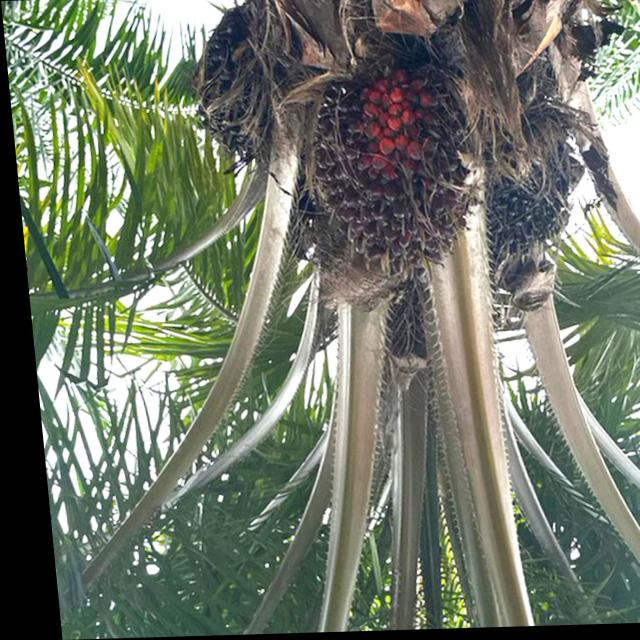ripe: (284, 35, 498, 306)
